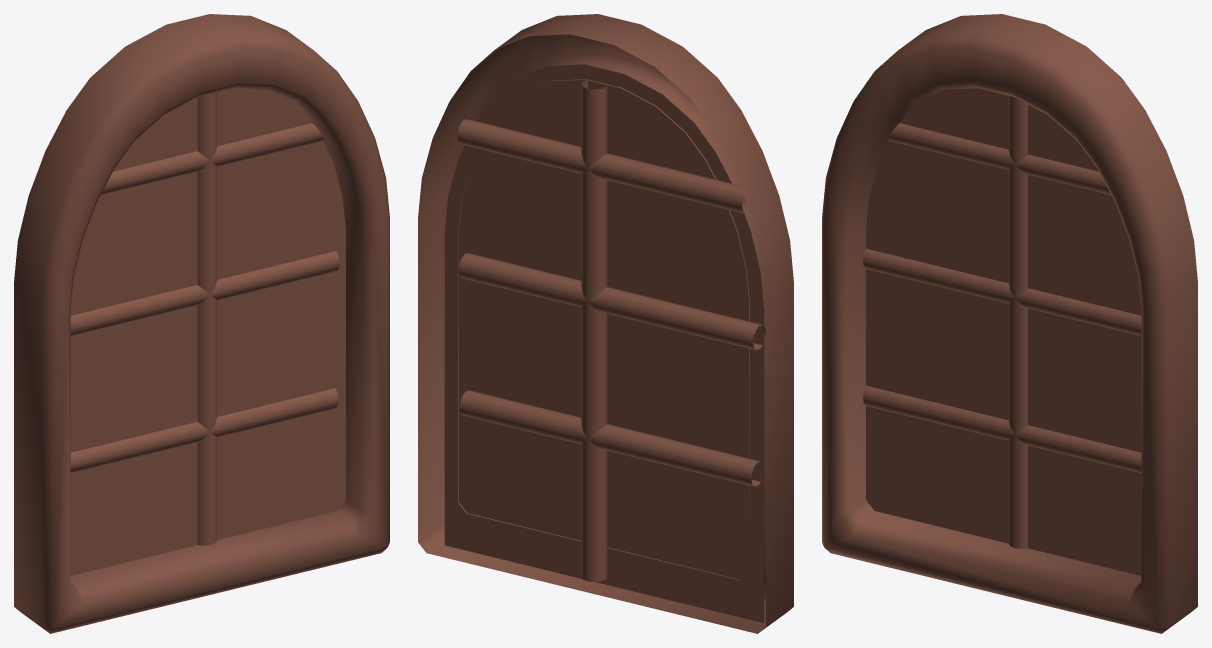
The model's file is Farmhouse_ROOM_window_v01.glb.
3 views of the same model, side by side, from view 1: azimuth 30°, elevation 25°; view 2: azimuth 150°, elevation 25°; view 3: azimuth 330°, elevation 25° (orthographic).
Visible parts, largest first — view 1: Farmhouse_ROOM_window_v01; view 2: Farmhouse_ROOM_window_v01; view 3: Farmhouse_ROOM_window_v01.
Part boxes in pixels (x1,y1,x2,y2): Farmhouse_ROOM_window_v01: [14, 14, 389, 633]; Farmhouse_ROOM_window_v01: [418, 14, 793, 633]; Farmhouse_ROOM_window_v01: [822, 14, 1197, 633].
Size of the model in its own units: 0.7059 by 1.07 by 0.1147.
